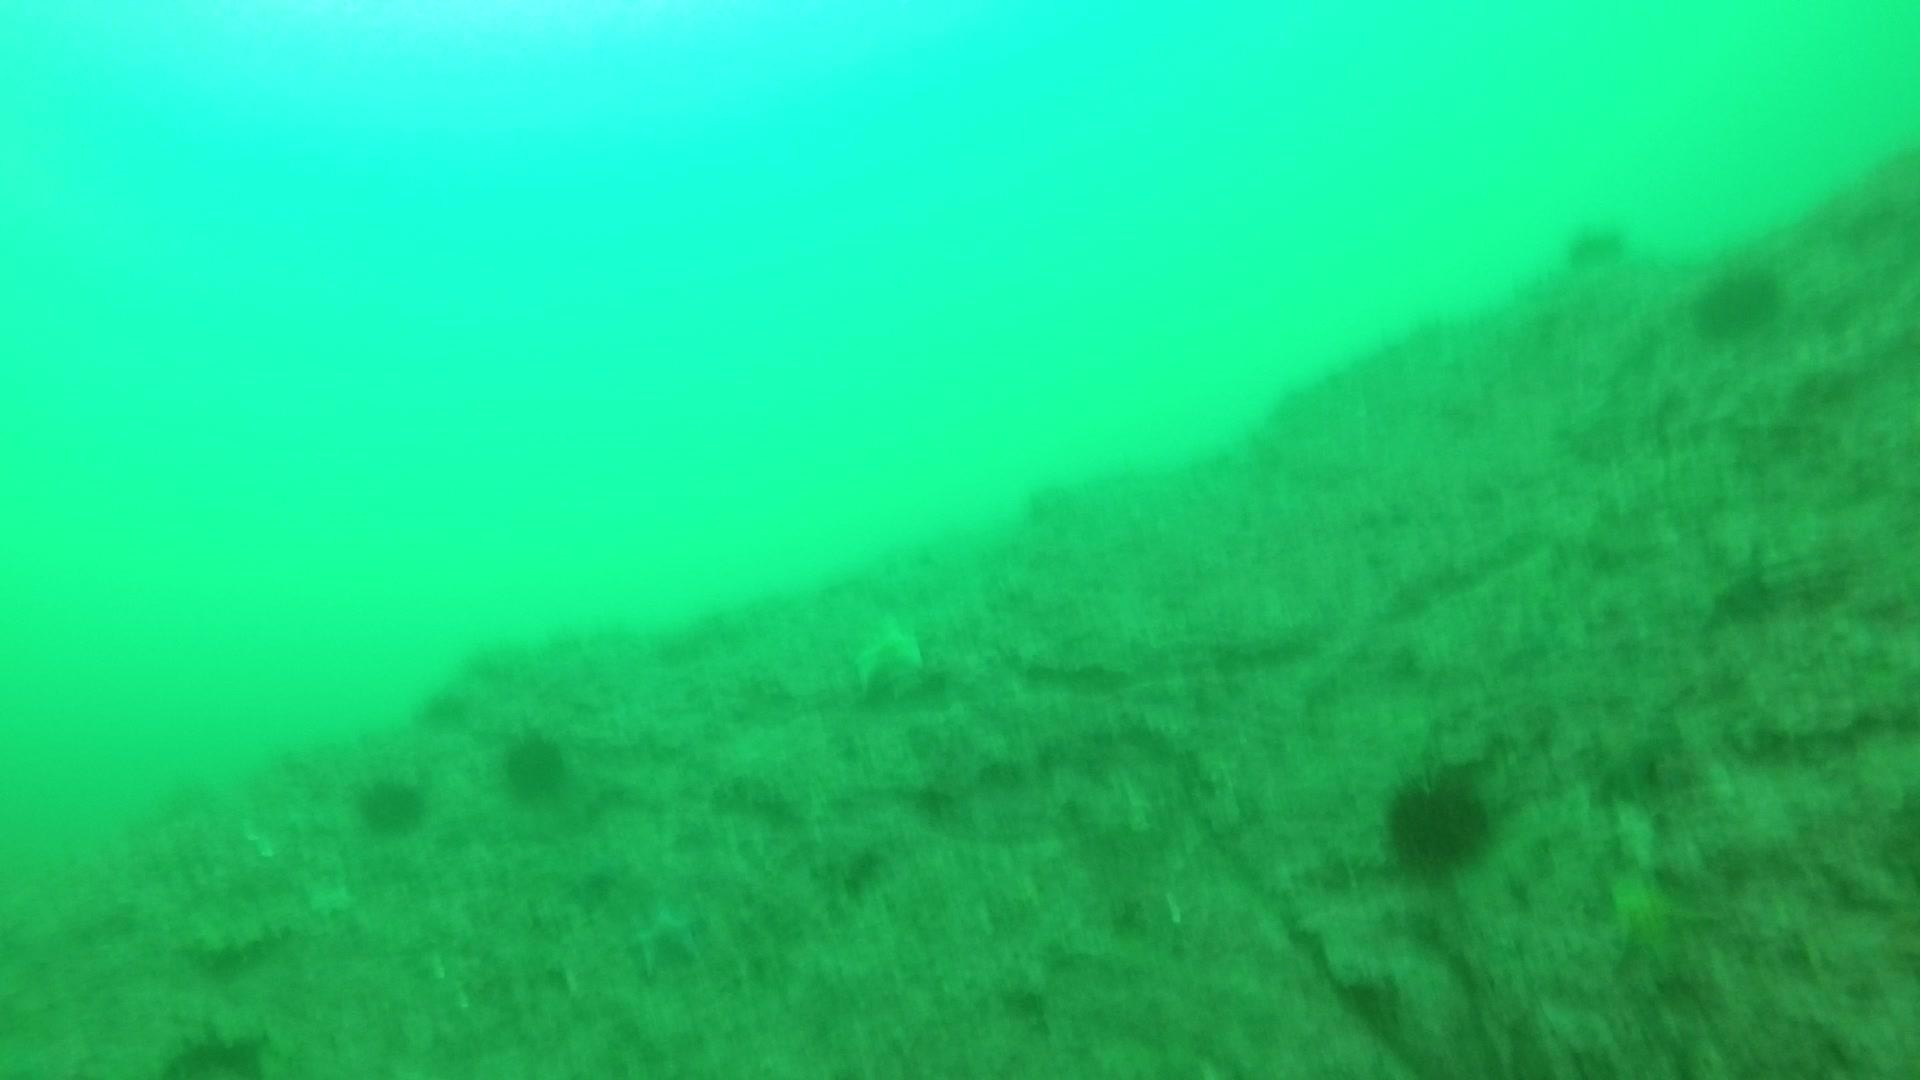echinus: (1375, 760, 1501, 880), (1688, 255, 1788, 343), (492, 723, 578, 806), (160, 1018, 277, 1077), (349, 767, 433, 839), (1557, 214, 1633, 274), (411, 679, 475, 733)
holothurian: (162, 898, 315, 968)
starfish: (1598, 858, 1712, 982), (844, 607, 934, 703), (622, 889, 712, 980)
